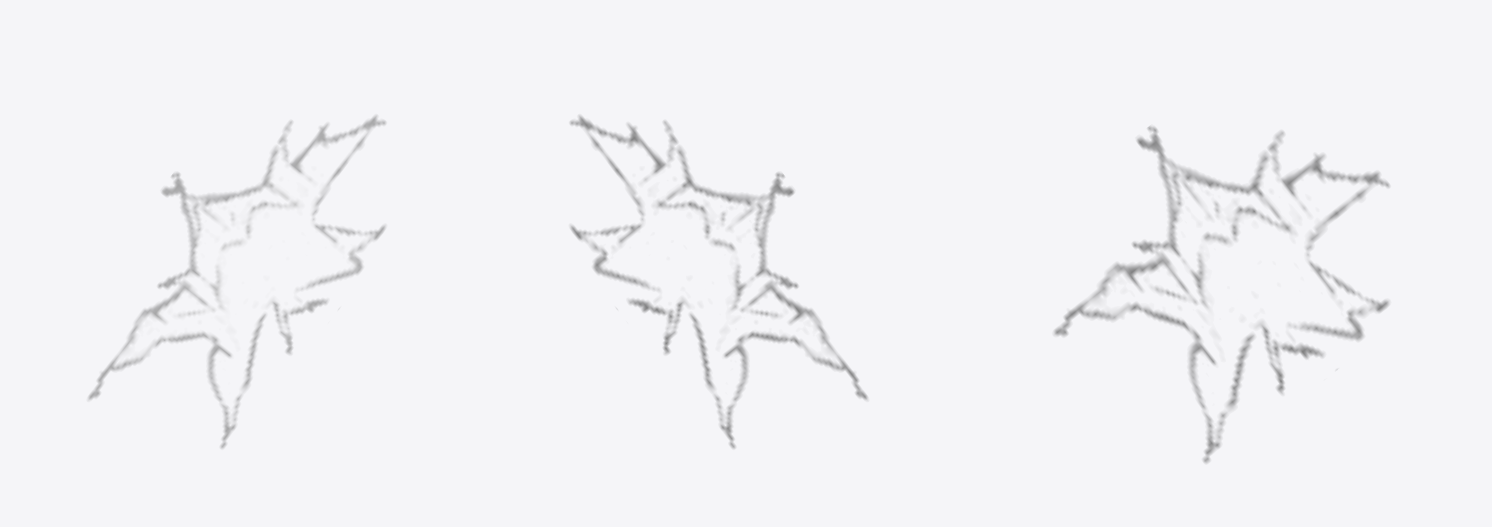
File: EarthQuake03.glb
3 renders of one model, left to right at view 1: azimuth 30°, elevation 25°; view 2: azimuth 150°, elevation 25°; view 3: azimuth 330°, elevation 25°, orthographic. The views are drawn at different scales.
Parts seen in each view (by area): view 1: model_EarthQuake03; view 2: model_EarthQuake03; view 3: model_EarthQuake03.
Part boxes in pixels (<box>): model_EarthQuake03: <box>88,116,385,448</box>; model_EarthQuake03: <box>570,116,867,448</box>; model_EarthQuake03: <box>1054,126,1389,462</box>.
Size of the model in its own units: 1.27 by 1.27 by 0.
1 material, 1 textured.
